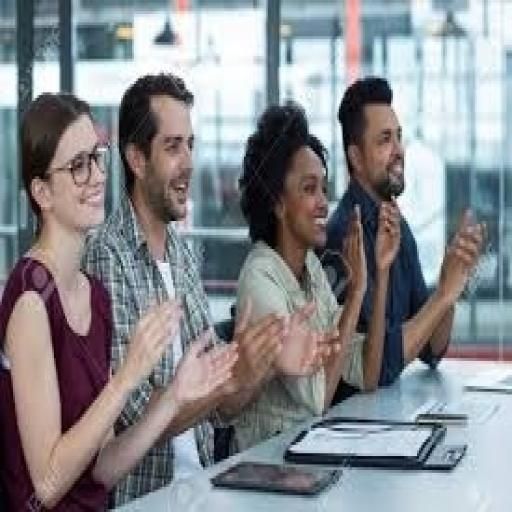clapping: (19, 78, 419, 512), (87, 41, 292, 512), (320, 72, 488, 392), (229, 98, 372, 453)
